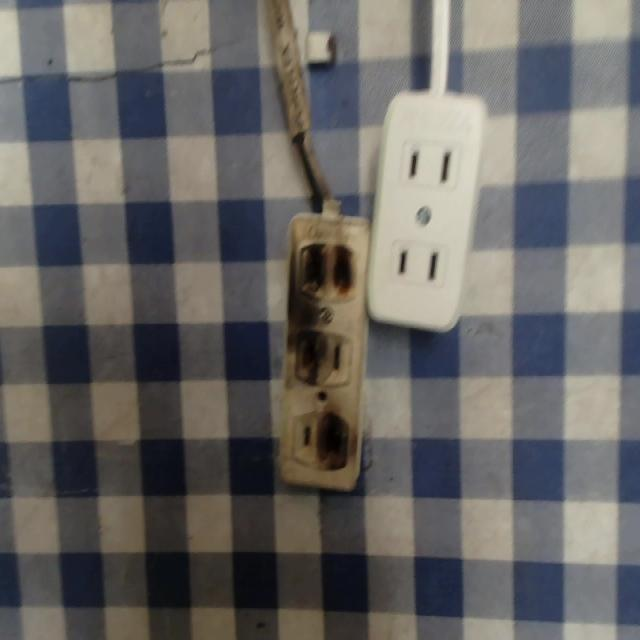-: (293, 239, 361, 301), (315, 410, 350, 478), (289, 323, 323, 388)
